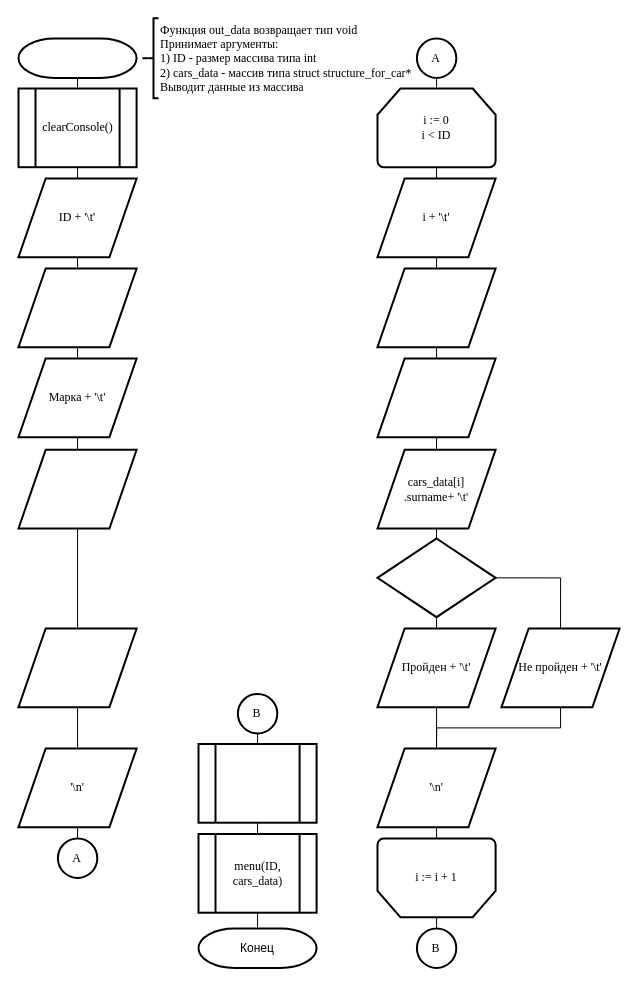
The diagram is 638 pixels wide and 986 high, and some of its shapes have lost their labels. The centre of each missing label's shape, as x and y in pixels:
"cars_data[i] .mark + '\t'" goes at (436,397).
"cars_data[i] .number + '\t'" goes at (436,307).
"cars_data[i] .osmotr = yes" goes at (436,577).
"pause_console()" goes at (257,782).
"void out_data()" goes at (77,57).
"Номер + '\t'" goes at (77,307).
"Осмотр + '\t'" goes at (77,667).
"Фамилия + '\t'" goes at (77,488).
